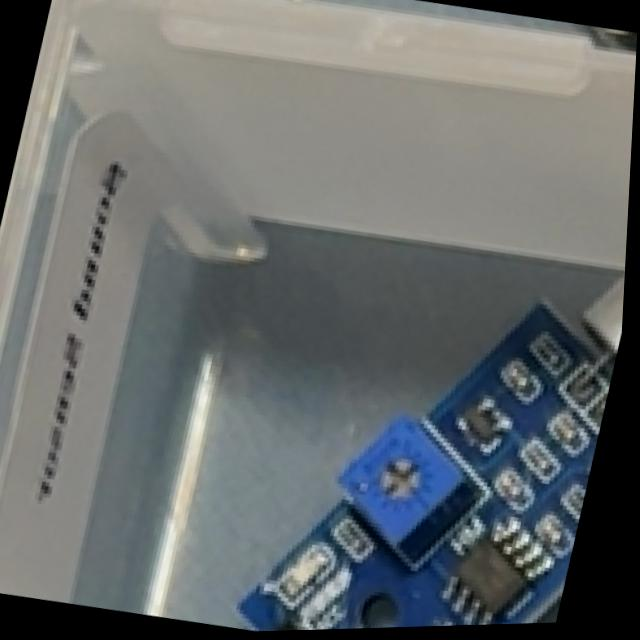Sound Sensor: (231, 169, 630, 632)
